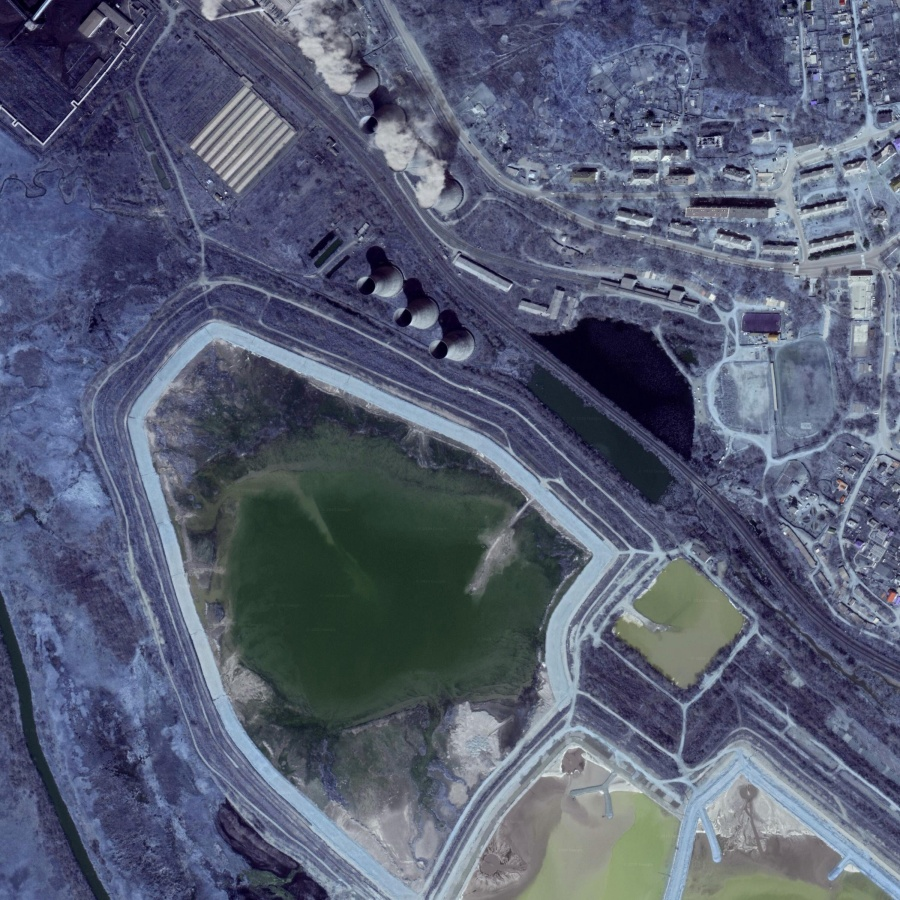PowerPlant: (295, 1, 509, 374)
